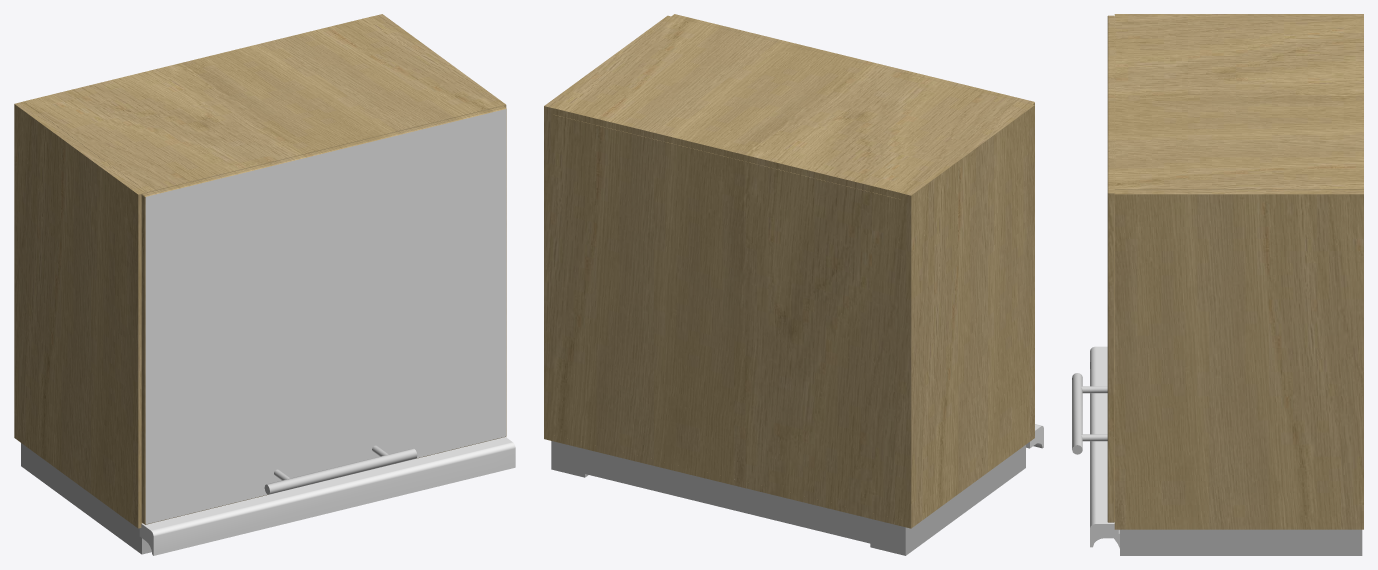
File: sh_blend_swap_cc_0_smalluppercabinet.glb
The picture shows the model from 3 angles, left to right: view 1: azimuth 30°, elevation 25°; view 2: azimuth 150°, elevation 25°; view 3: azimuth 270°, elevation 25°; orthographic projection.
Size of the model in its own units: 0.6 by 0.566 by 0.41.
8 materials, 2 textured.
